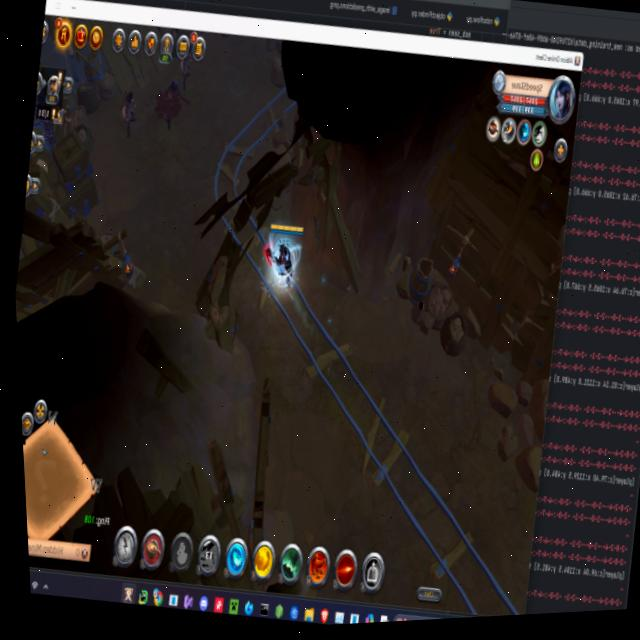ore: (145, 77, 192, 144), (110, 81, 145, 148), (172, 34, 203, 96)
red: (255, 217, 311, 297)
